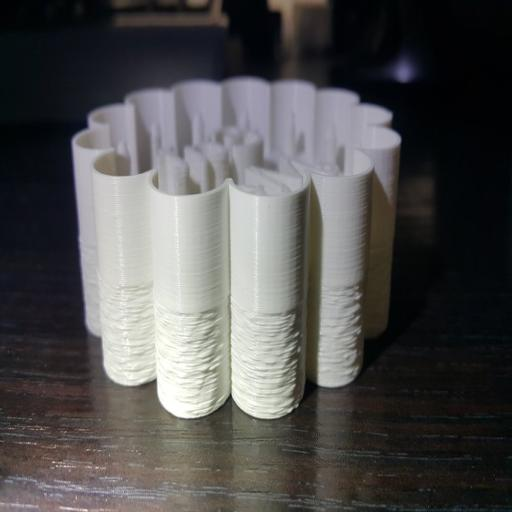blobs: (162, 300, 228, 404), (236, 302, 300, 402), (316, 282, 366, 380), (102, 274, 151, 372)
